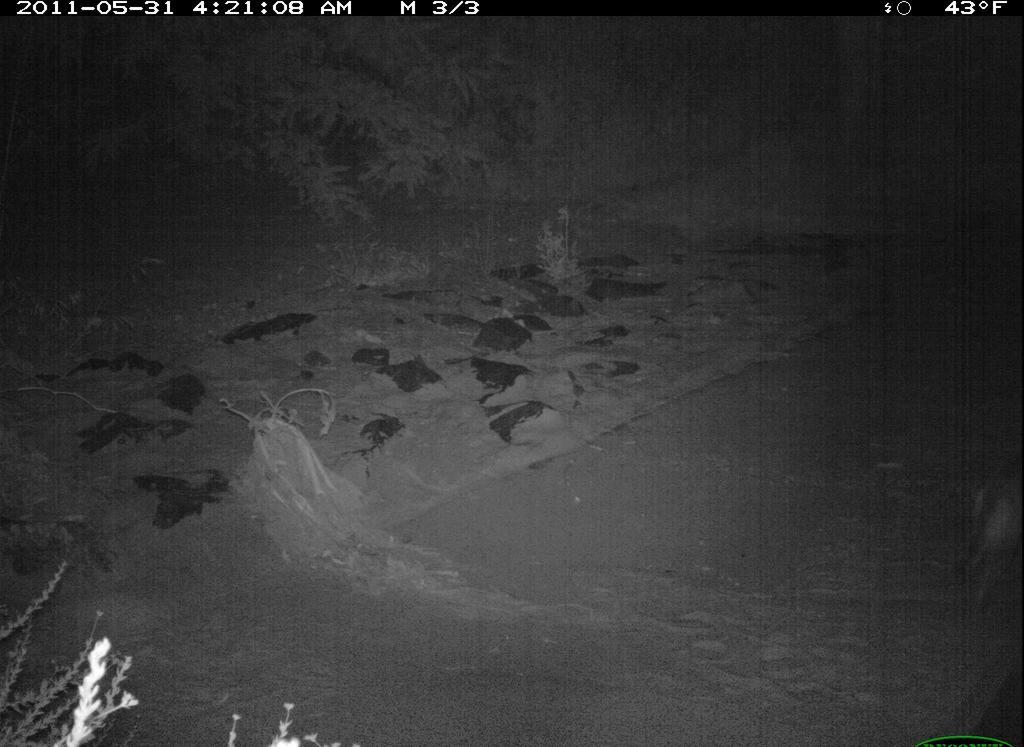cat: (956, 453, 1024, 628)
